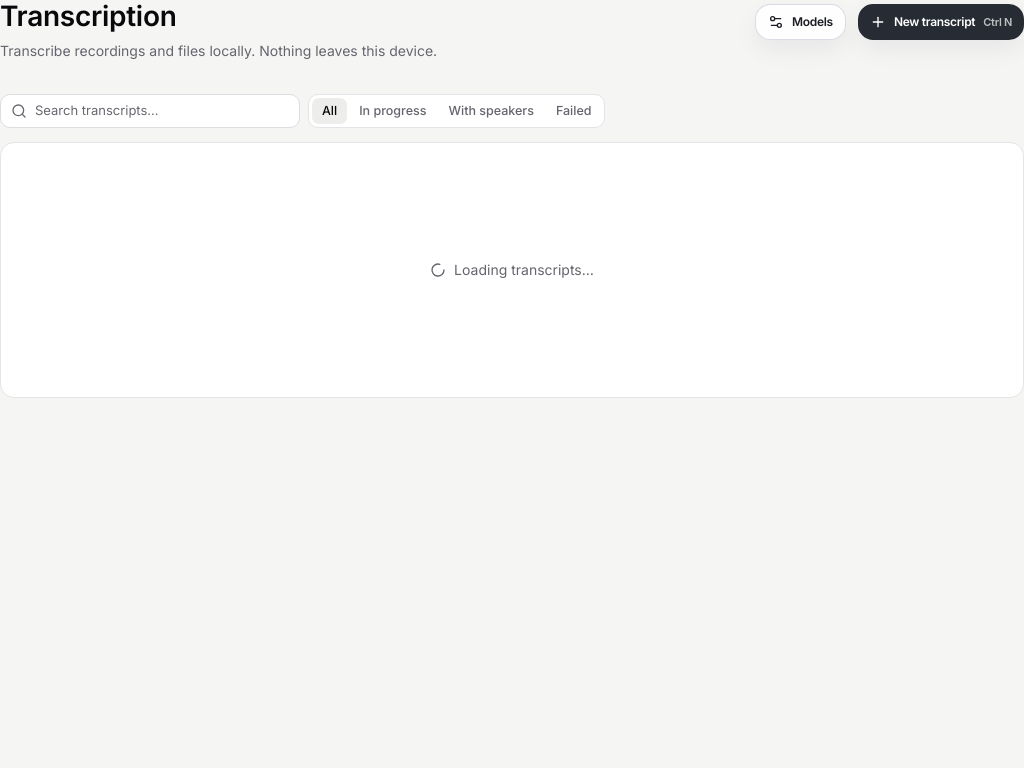
Test: TranscriptionPage detail route › shows LOADING readiness state in transcription mode when the selected model is loading
Click the button "New transcript Ctrl N". click: (941, 22)
box: [858, 4, 1023, 40]
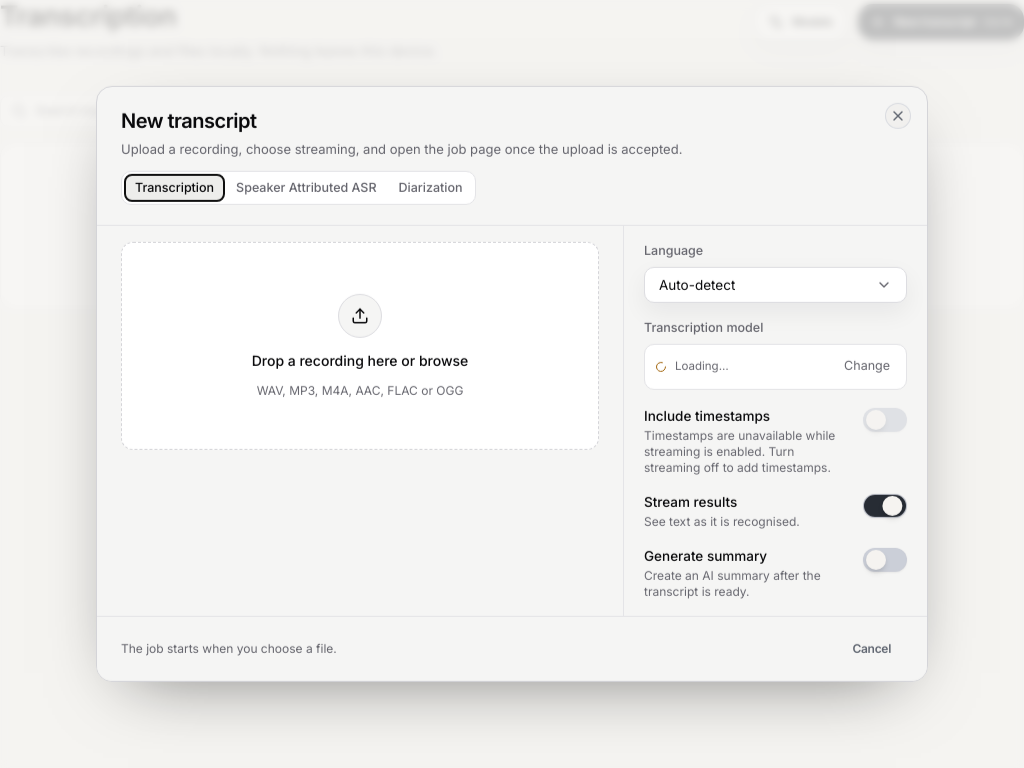
Check: the heading "New transcript" is shown, box [121, 109, 257, 133]
Check: the text "Loading…" is shown, box [675, 359, 729, 373]
